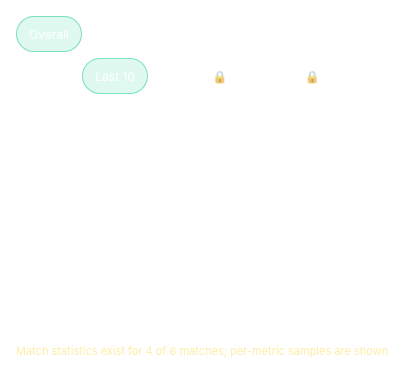
Test: TeamAnalytics (screen section) › explains a refused longer window with the Premium gate instead of an error
The width and height of the screenshot is (401, 374).
Click the button "Last 20 🔒" at (197, 76), box [154,58,240,94]
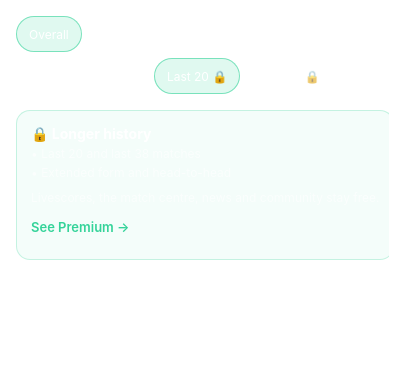
Check: the text "🔒 Longer history" is shown, box [31,125,152,142]
